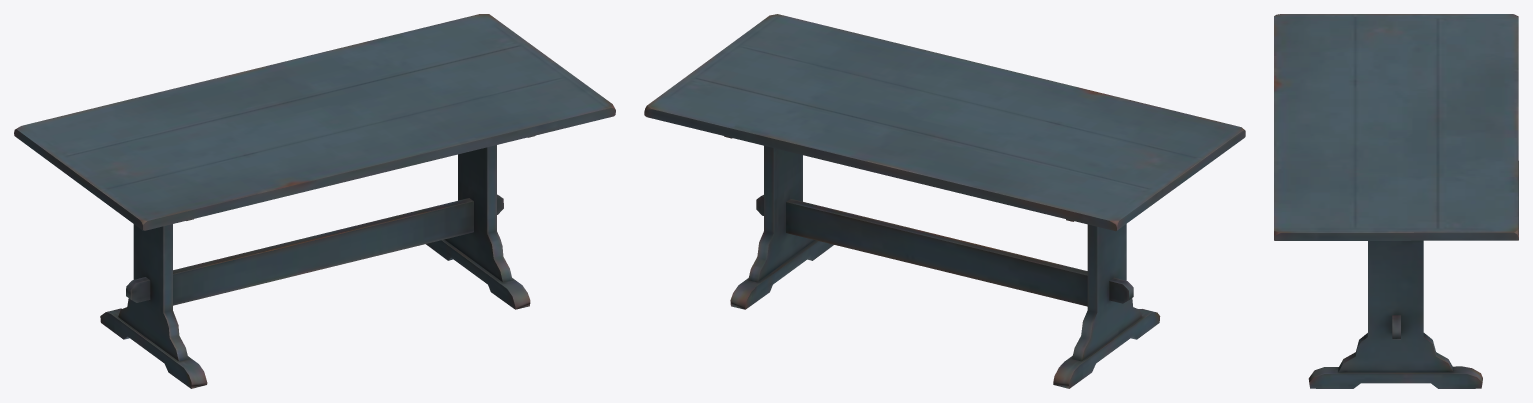
Rendered from table-low.glb.
The picture shows the model from 3 angles, left to right: view 1: azimuth 30°, elevation 25°; view 2: azimuth 150°, elevation 25°; view 3: azimuth 270°, elevation 25°; orthographic projection. The views are drawn at different scales.
Visible parts, largest first — view 1: painted_wooden_table; view 2: painted_wooden_table; view 3: painted_wooden_table.
Boxes of the visible parts, x1=… form: painted_wooden_table: x1=14, y1=14, x2=615, y2=388; painted_wooden_table: x1=644, y1=14, x2=1245, y2=388; painted_wooden_table: x1=1274, y1=14, x2=1518, y2=388.
Bounding box in the file's own units: 2.4 × 0.9586 × 1.14.
1 material, 1 textured.
